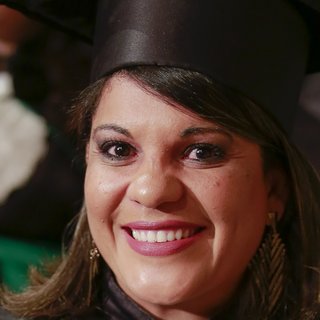eye: (180, 140, 227, 167), (96, 136, 141, 164)
